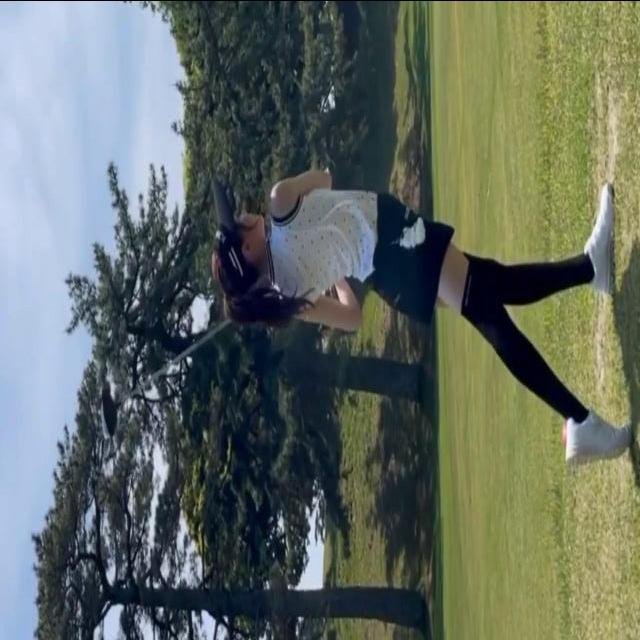ClubHandle: (102, 320, 230, 437)
ClubHead: (102, 396, 118, 437)
